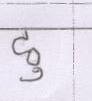u_matra: (22, 67, 45, 83)
